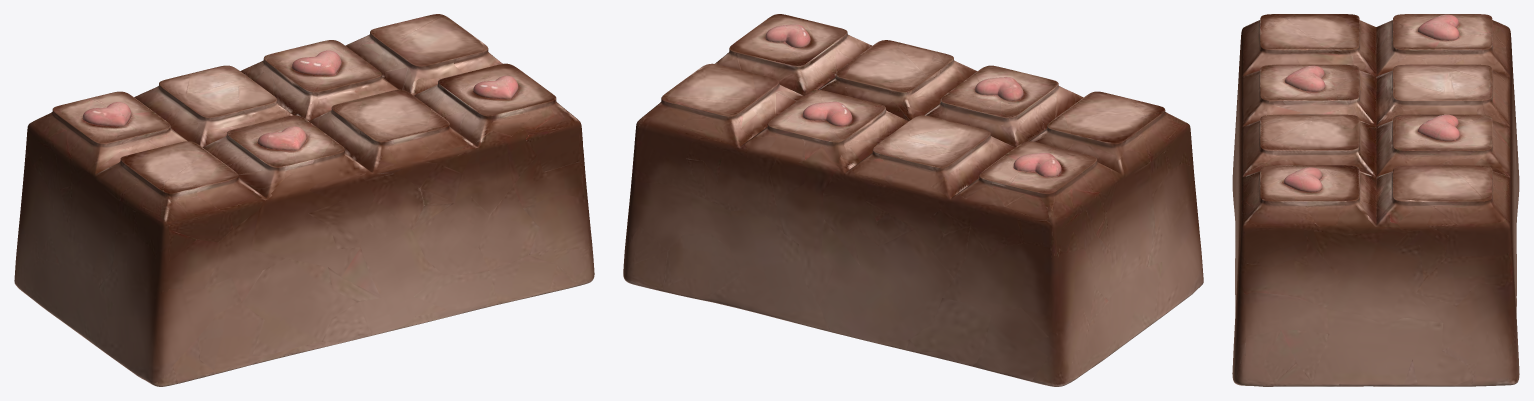
3 renders of one model, left to right at view 1: azimuth 30°, elevation 25°; view 2: azimuth 150°, elevation 25°; view 3: azimuth 270°, elevation 25°, orthographic. The views are drawn at different scales.
Size of the model in its own units: 1.9 by 0.7637 by 1.07.
Materials: 1 (1 with a texture image).
